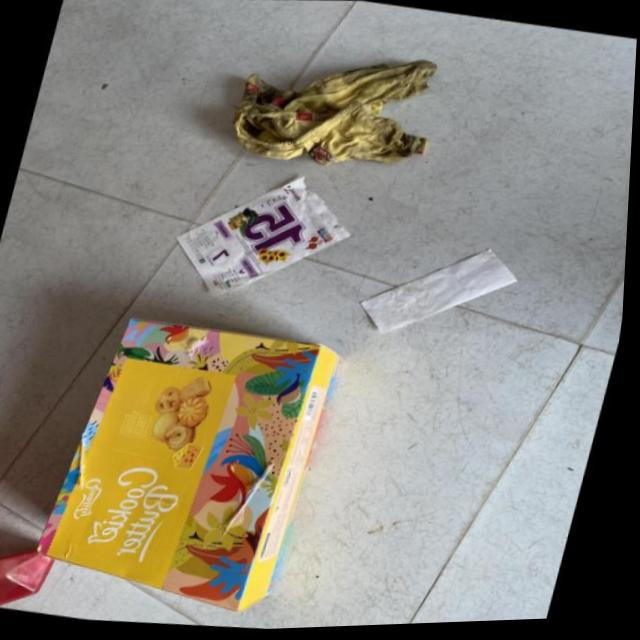food: (130, 135, 386, 329), (356, 221, 542, 369)
plastic: (196, 18, 469, 199)
trash: (33, 275, 369, 637)
